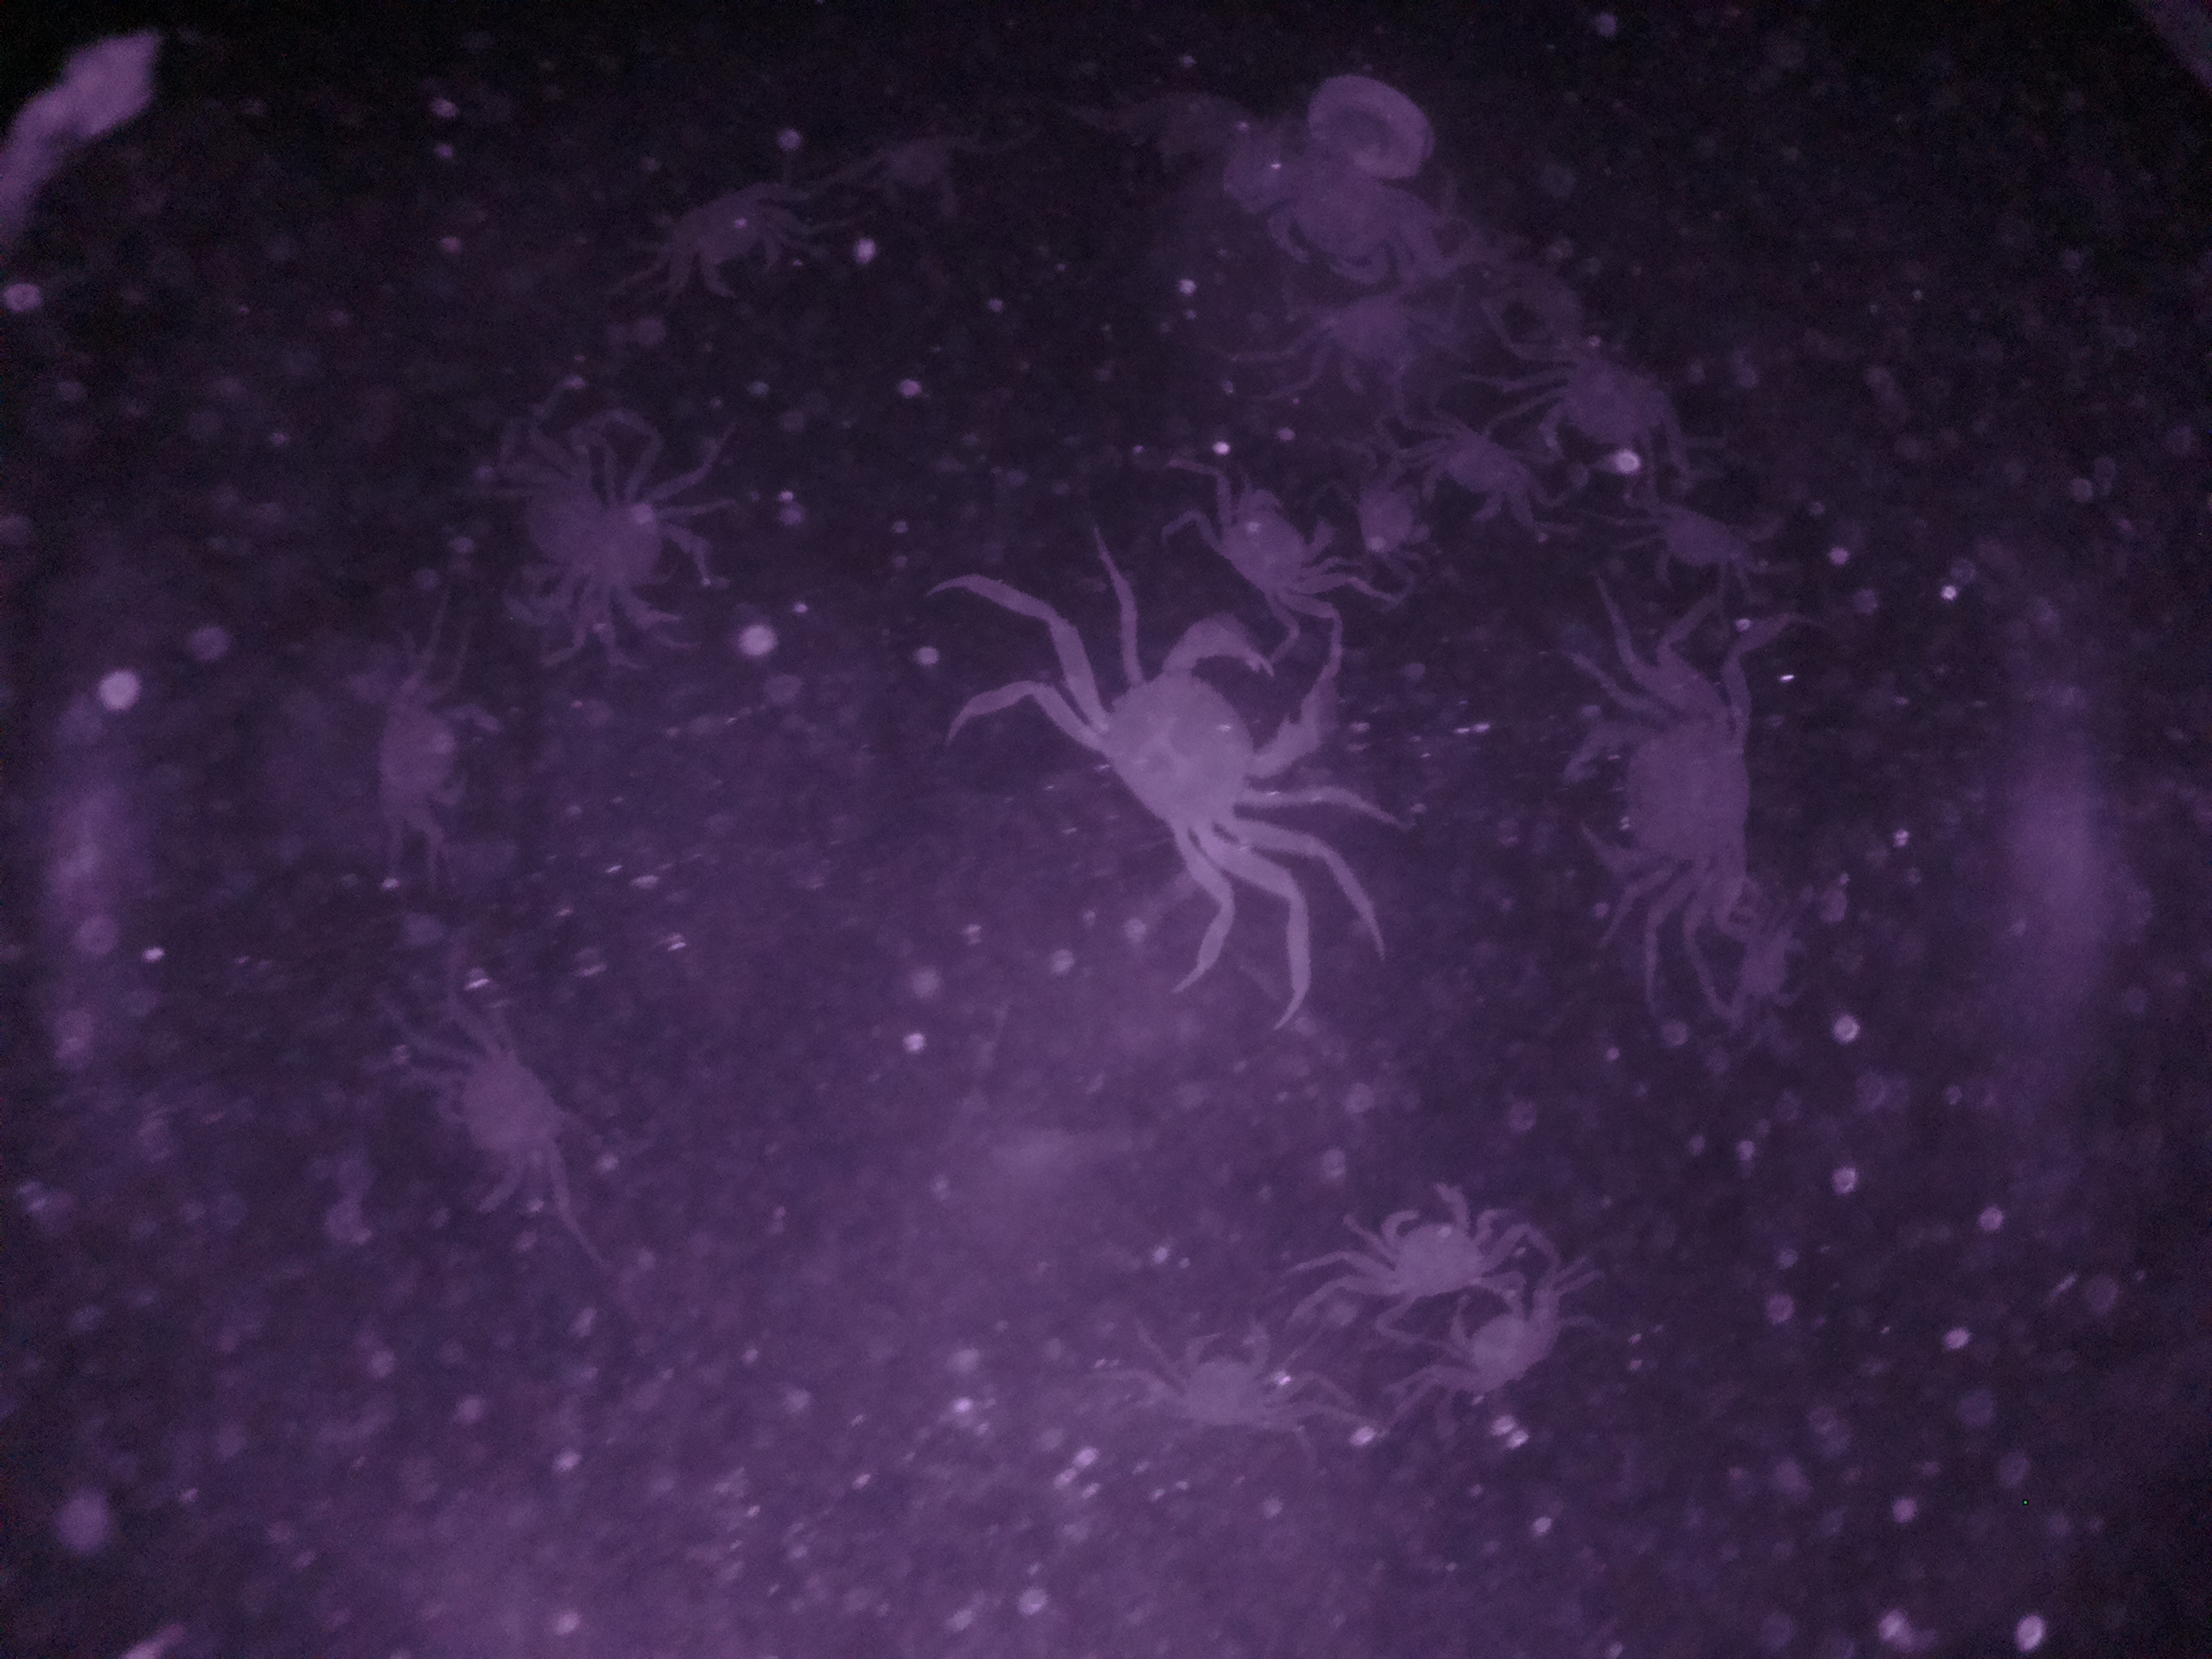Crab: (1029, 626, 1334, 861), (1559, 683, 1775, 938), (404, 1016, 594, 1218), (1514, 342, 1714, 474), (1179, 464, 1357, 612), (643, 169, 815, 314), (1334, 1176, 1501, 1312), (1278, 281, 1453, 404)
